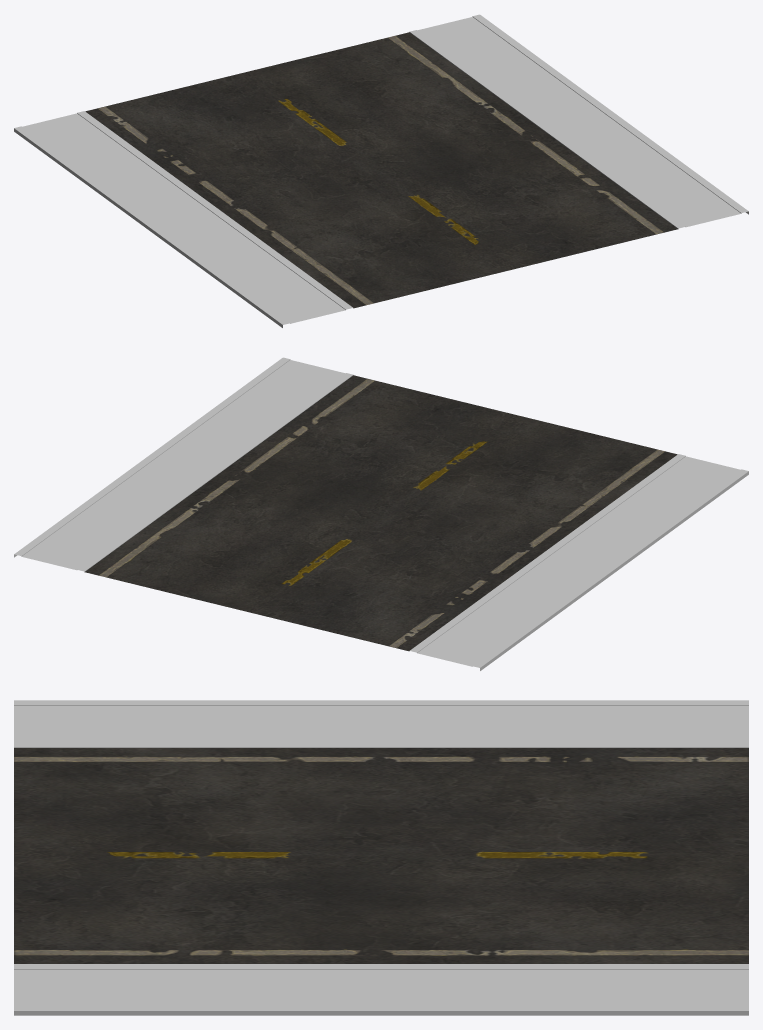
File: Road_Streight_A.fbx
3 views of the same model, one above another, from view 1: azimuth 30°, elevation 25°; view 2: azimuth 150°, elevation 25°; view 3: azimuth 270°, elevation 25° (orthographic). The views are drawn at different scales.
Parts seen in each view (by area): view 1: Road_Streight_A; view 2: Road_Streight_A; view 3: Road_Streight_A.
Part boxes in pixels (x1,y1,x2,y2): Road_Streight_A: [14, 14, 748, 327]; Road_Streight_A: [14, 357, 748, 670]; Road_Streight_A: [14, 700, 748, 1015].
Bounding box in the file's own units: 1500 × 10.58 × 1500.
